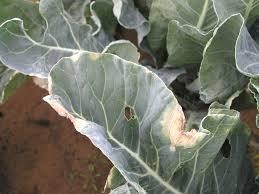Bok-Choy-Diseased: (42, 53, 234, 153)
